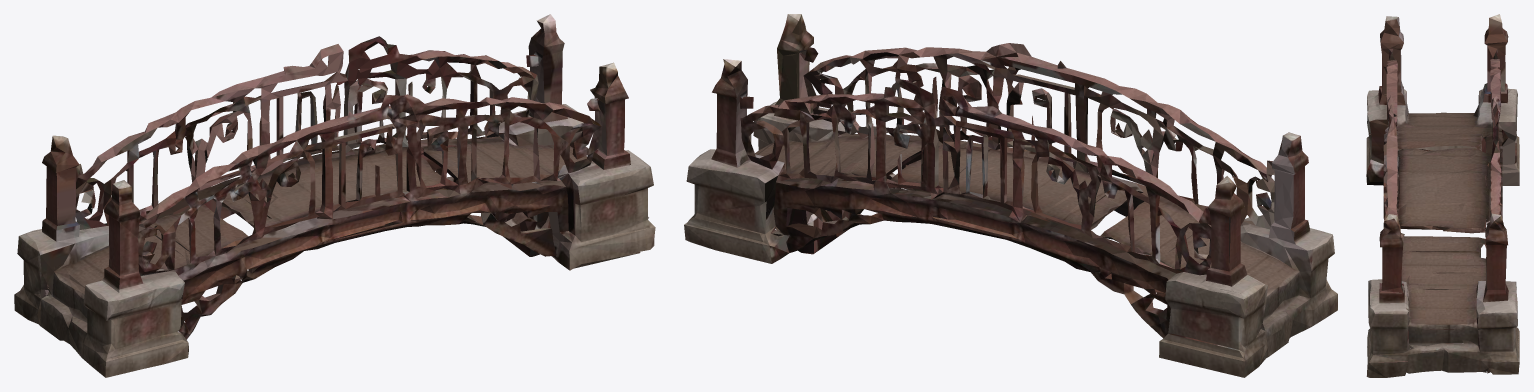
Rendered from park_iron_bridge_1117.glb.
The picture shows the model from 3 angles, left to right: view 1: azimuth 30°, elevation 25°; view 2: azimuth 150°, elevation 25°; view 3: azimuth 270°, elevation 25°; orthographic projection. The views are drawn at different scales.
Visible parts, largest first — view 1: world; view 2: world; view 3: world.
Part boxes in pixels (x1,y1,x2,y2): world: (14,14,655,377); world: (684,14,1337,377); world: (1366,14,1519,377).
Bounding box in the file's own units: 2.78 × 1 × 0.801.
1 material, 1 textured.
